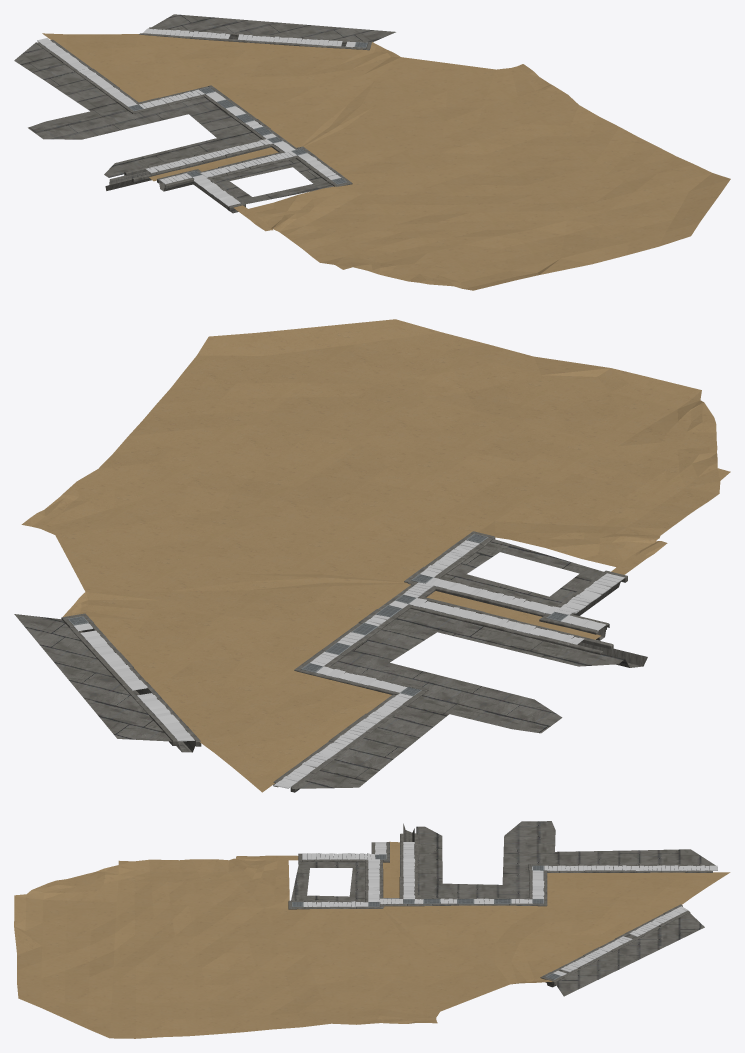
The model's file is SM_ENV_KNVLLG_ground_14.mo.fbx.
The picture shows the model from 3 angles, top to bottom: view 1: azimuth 30°, elevation 25°; view 2: azimuth 150°, elevation 25°; view 3: azimuth 270°, elevation 25°; orthographic projection. The views are drawn at different scales.
Visible parts, largest first — view 1: SM_ENV_KNVLLG_ground_14.mo; view 2: SM_ENV_KNVLLG_ground_14.mo; view 3: SM_ENV_KNVLLG_ground_14.mo.
Boxes of the visible parts, x1,y1,x2,y2 form: SM_ENV_KNVLLG_ground_14.mo: (14, 14, 730, 290); SM_ENV_KNVLLG_ground_14.mo: (14, 319, 730, 792); SM_ENV_KNVLLG_ground_14.mo: (14, 821, 730, 1038).
Size of the model in its own units: 45.53 by 1.03 by 62.66.
